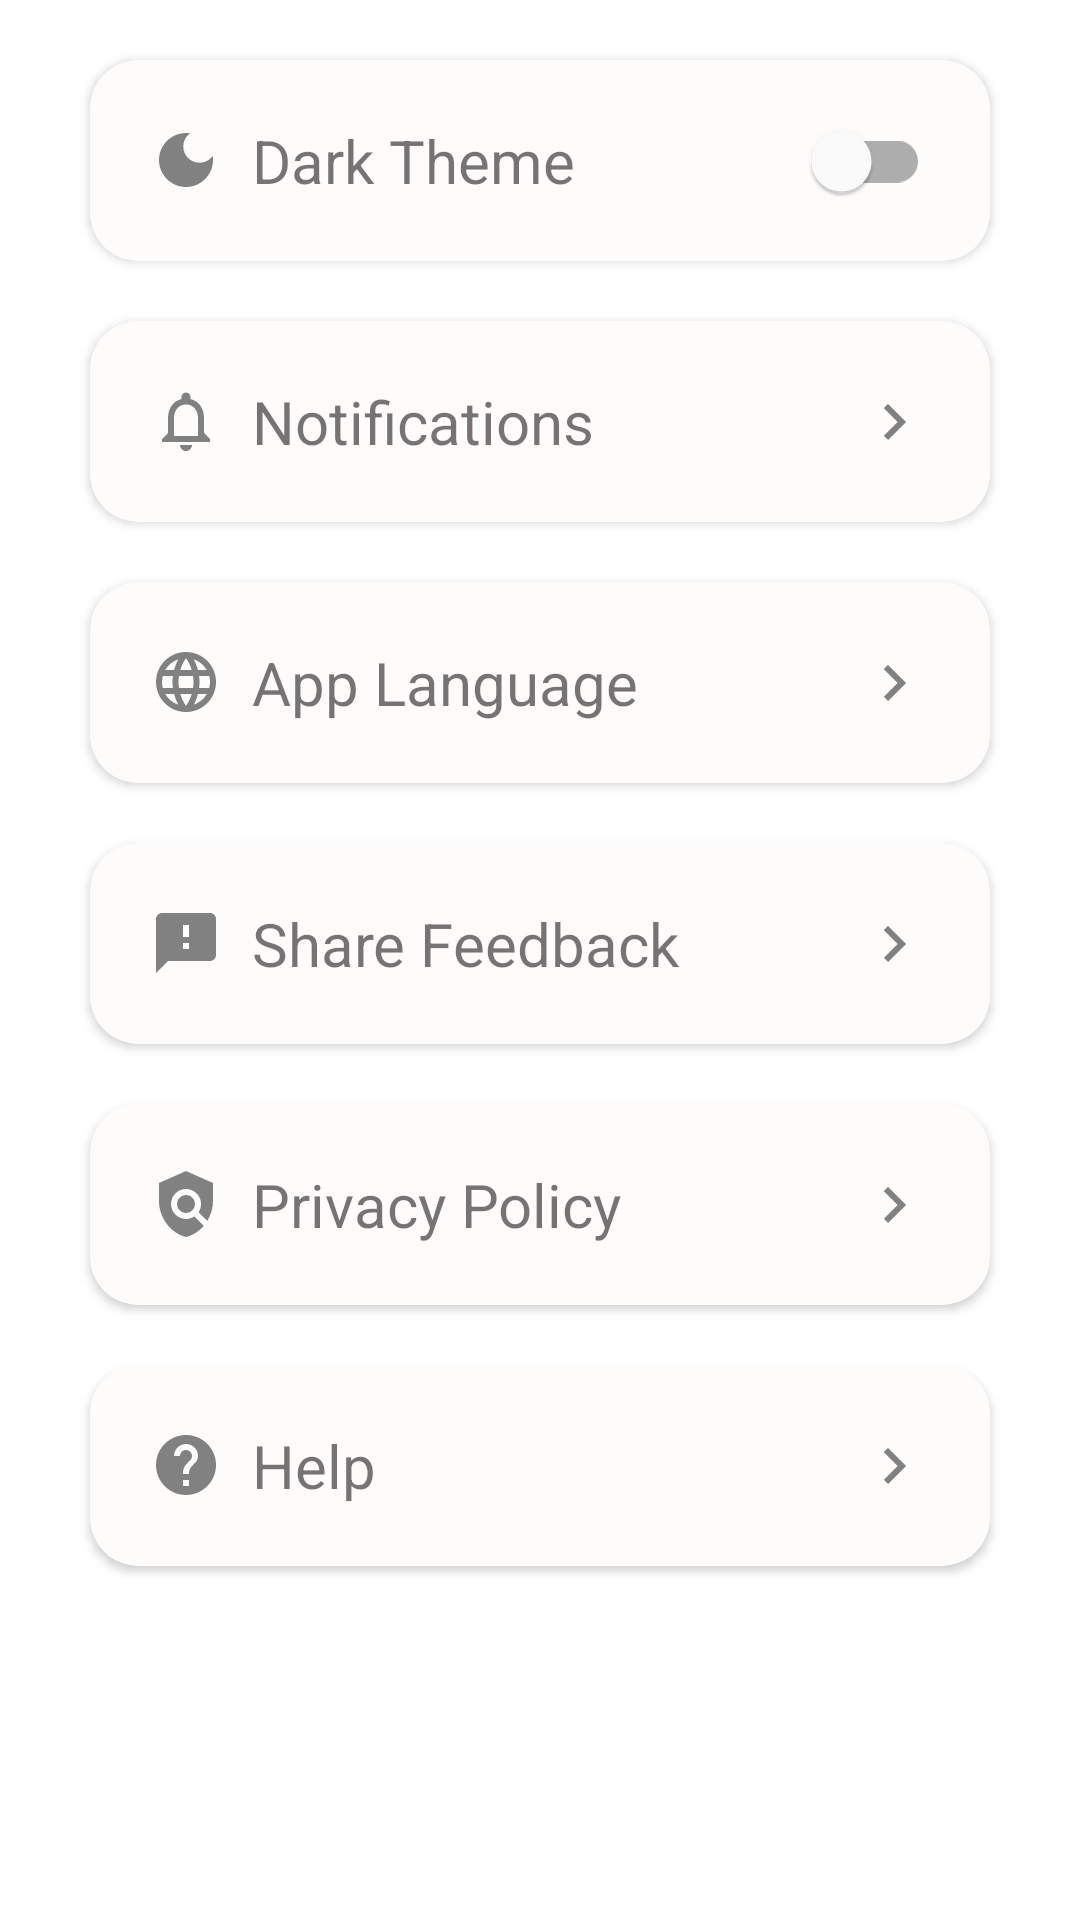

Locate icon controls on the screen. Image size 1080*1920, boxes as Rect(x1, y1, x2, y2).
arrow right: Rect(884, 404, 906, 440), Rect(884, 665, 906, 701), Rect(884, 926, 906, 962), Rect(884, 1187, 906, 1223), Rect(884, 1448, 906, 1484)
